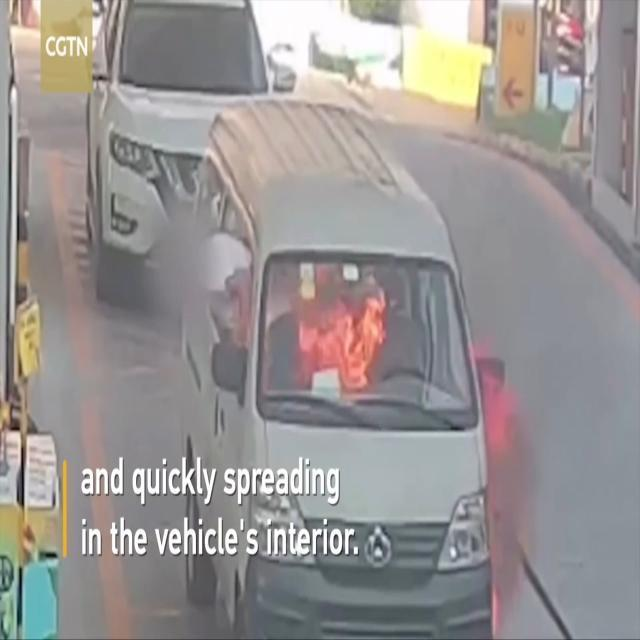fire: (480, 344, 541, 636), (304, 263, 381, 404)
